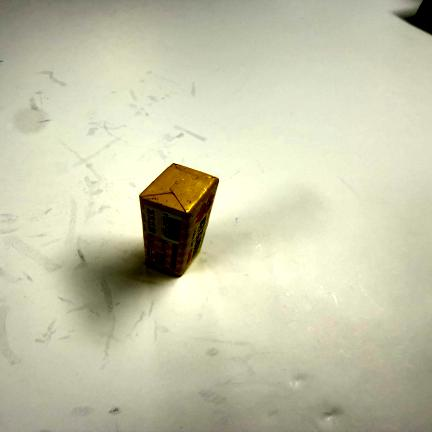gum_yellow: (140, 163, 220, 276)
